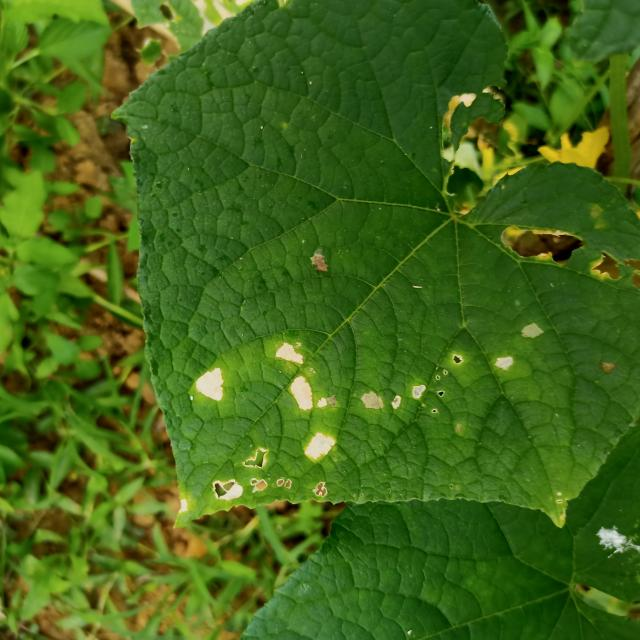disease_cucumber: (179, 334, 349, 512), (354, 299, 554, 444)
